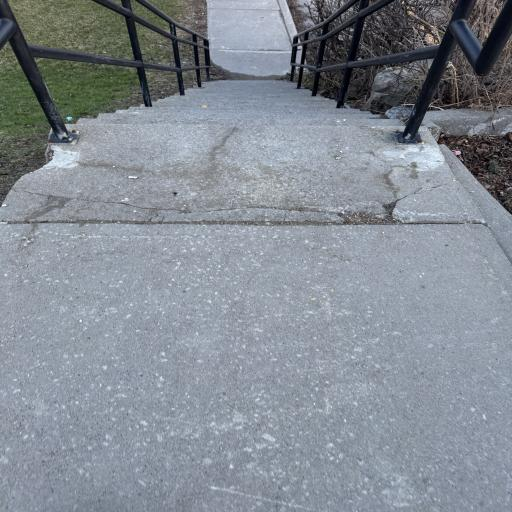Stairs: (0, 4, 512, 512), (2, 80, 484, 224)
